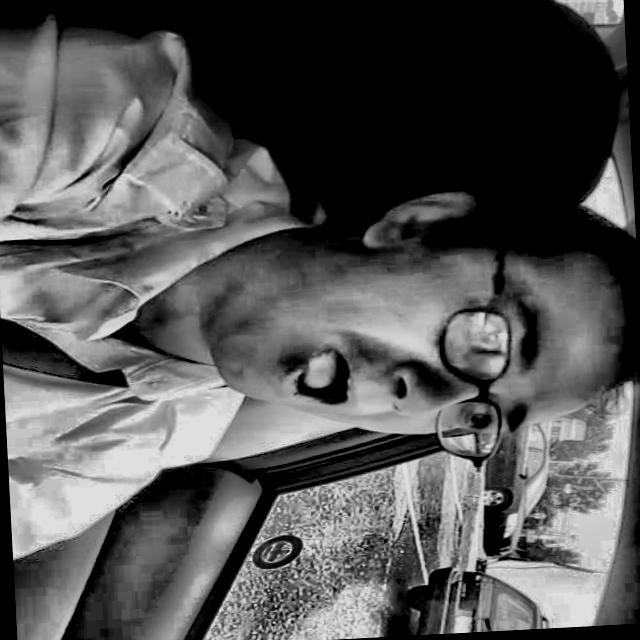open_mouth: (268, 339, 367, 422)
